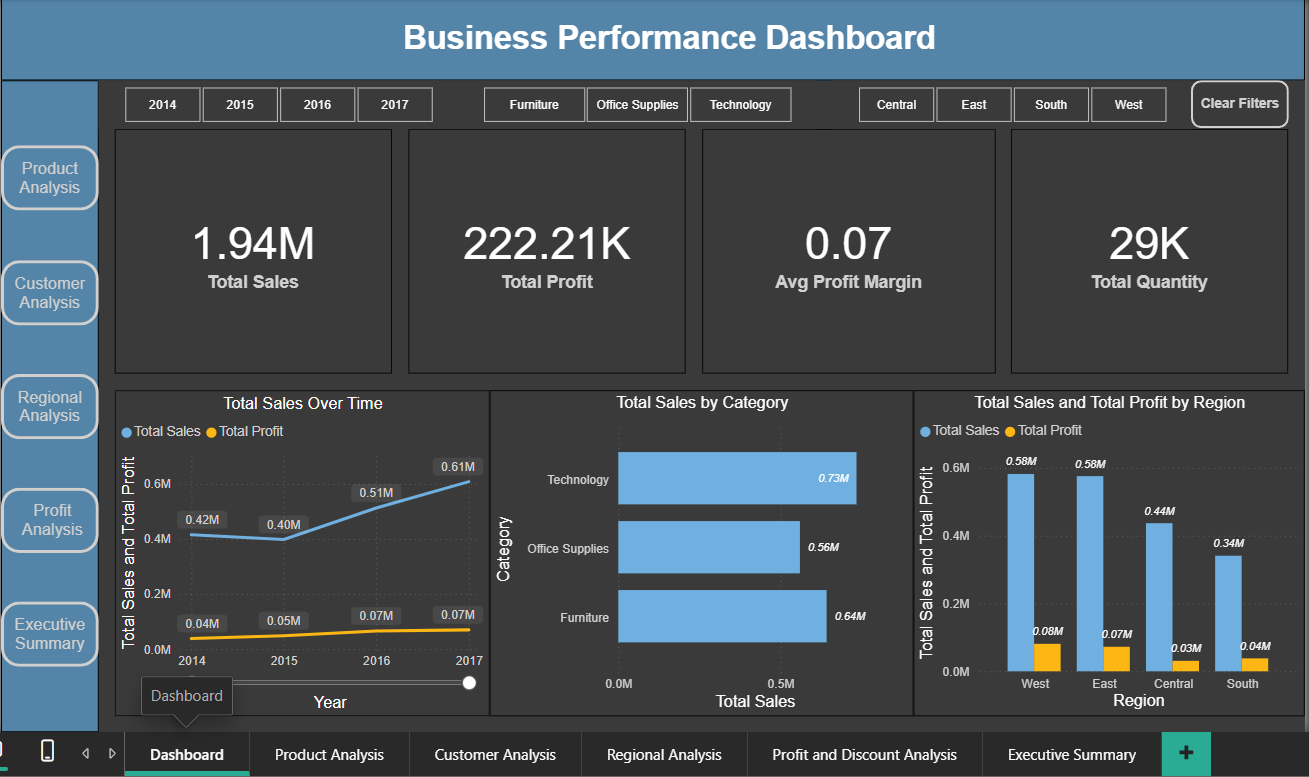

The page's visual inventory and layout, read from the dashboard file:
{"tool":"powerbi","page":{"name":"Dashboard","canvas":[1280,720],"ordinal":0},"visuals":[{"type":"card","fields":{"Values":["Sample - Superstore.Total Sales"]},"box":[112,128,272,240],"z":0},{"type":"card","fields":{"Values":["Sample - Superstore.Total Quantity"]},"box":[992,128,272,240],"z":1000},{"type":"card","fields":{"Values":["Sample - Superstore.Avg Margin"]},"box":[688,128,288,240],"z":2000},{"type":"card","fields":{"Values":["Sample - Superstore.Total Profit"]},"box":[400,128,272,240],"z":3000},{"type":"lineChart","title":"Total Sales Over Time","fields":{"Y":["Sample - Superstore.Total Sales","Sample - Superstore.Total Profit"],"Category":["Sample - Superstore.order_date.Variation.Date Hierarchy.Year","Sample - Superstore.order_date.Variation.Date Hierarchy.Quarter","Sample - Superstore.order_date.Variation.Date Hierarchy.Month"]},"box":[112,384,368,320],"z":4000},{"type":"clusteredBarChart","fields":{"Category":["Sample - Superstore.Category"],"Y":["Sample - Superstore.Total Sales"]},"box":[480,384,416,320],"z":5000},{"type":"lineClusteredColumnComboChart","fields":{"Category":["Sample - Superstore.Region"],"Y":["Sample - Superstore.Total Sales","Sample - Superstore.Total Profit"]},"box":[896,384,384,320],"z":6000},{"type":"textbox","box":[0,0,1280,80],"z":7000},{"type":"shape","box":[0,0,1280,80],"z":8000},{"type":"textbox","box":[352,16,608,48],"z":9000},{"type":"shape","box":[0,80,96,640],"z":10000},{"type":"actionButton","box":[0,144,96,64],"z":11000},{"type":"actionButton","box":[0,368,96,64],"z":12000},{"type":"actionButton","box":[0,256,96,64],"z":13000},{"type":"actionButton","box":[0,480,96,64],"z":14000},{"type":"slicer","fields":{"Values":["Sample - Superstore.year"]},"box":[96,80,352,48],"z":15000},{"type":"slicer","fields":{"Values":["Sample - Superstore.Category"]},"box":[448,80,352,48],"z":16000},{"type":"slicer","fields":{"Values":["Sample - Superstore.Region"]},"box":[816,80,352,48],"z":17000},{"type":"actionButton","box":[1168,80,96,47],"z":18000},{"type":"actionButton","box":[0,592,96,64],"z":18001}]}

Visuals, with their boxes on the page's 1280x720 design canvas (x1, y1, x2, y2). These are canvas units, not pixel positions in the 1309x777 screenshot, which may show the page scaled, cropped or inside an application window:
card - Sample - Superstore.Total Sales: box(112, 128, 384, 368)
card - Sample - Superstore.Total Quantity: box(992, 128, 1264, 368)
card - Sample - Superstore.Avg Margin: box(688, 128, 976, 368)
card - Sample - Superstore.Total Profit: box(400, 128, 672, 368)
"Total Sales Over Time" lineChart: box(112, 384, 480, 704)
clusteredBarChart - Sample - Superstore.Category x Sample - Superstore.Total Sales: box(480, 384, 896, 704)
lineClusteredColumnComboChart - Sample - Superstore.Region x Sample - Superstore.Total Sales: box(896, 384, 1280, 704)
textbox: box(0, 0, 1280, 80)
shape: box(0, 0, 1280, 80)
textbox: box(352, 16, 960, 64)
shape: box(0, 80, 96, 720)
actionButton: box(0, 144, 96, 208)
actionButton: box(0, 368, 96, 432)
actionButton: box(0, 256, 96, 320)
actionButton: box(0, 480, 96, 544)
slicer - Sample - Superstore.year: box(96, 80, 448, 128)
slicer - Sample - Superstore.Category: box(448, 80, 800, 128)
slicer - Sample - Superstore.Region: box(816, 80, 1168, 128)
actionButton: box(1168, 80, 1264, 127)
actionButton: box(0, 592, 96, 656)
